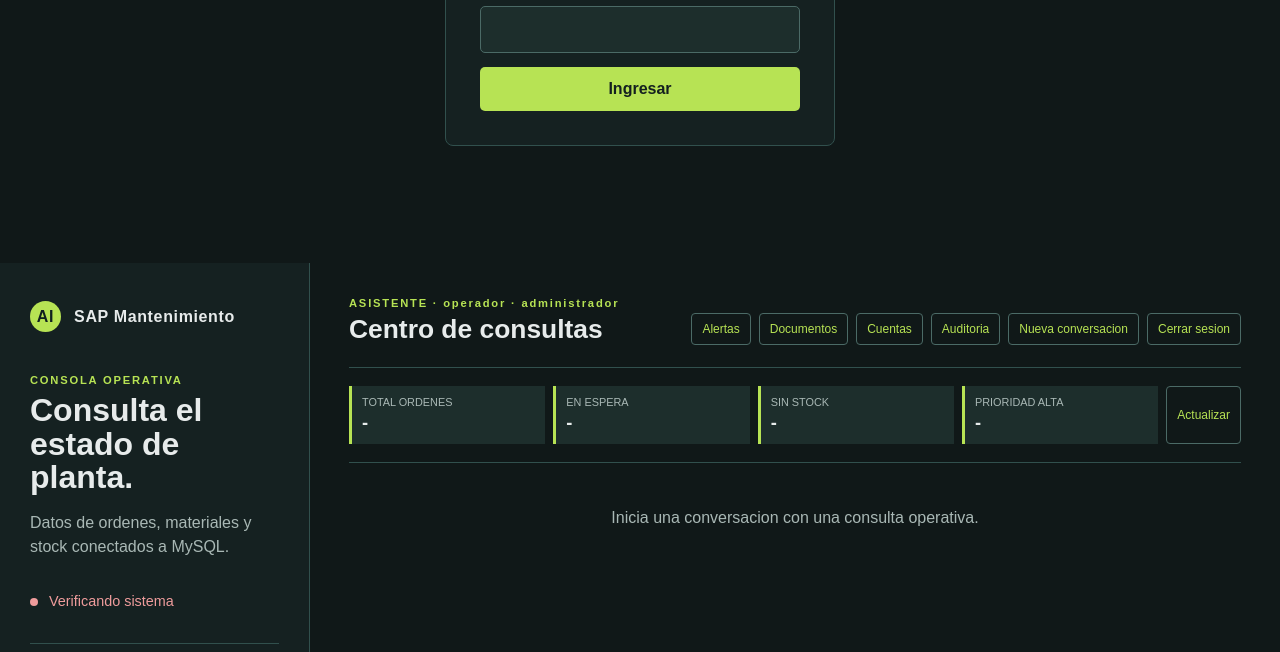
Scenario: App › permite a un administrador incorporar un documento tecnico
(page scrolled)
Click the button "Documentos".
click(804, 329)  # box [759,313,848,345]
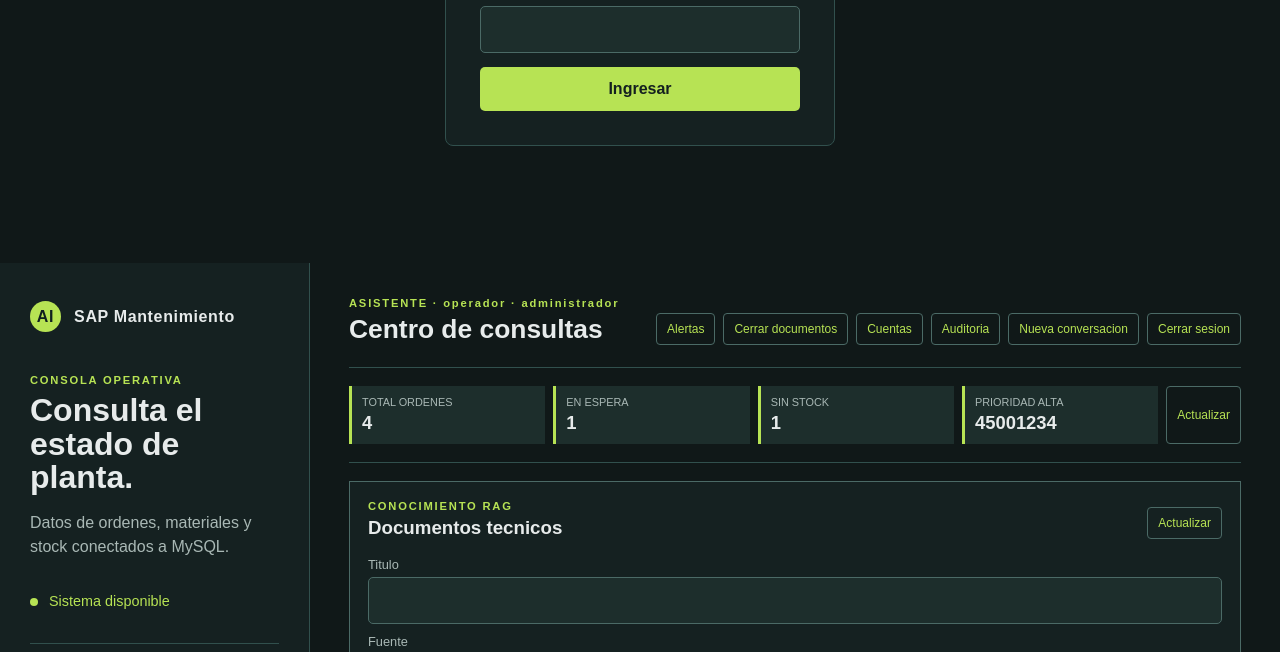
Type "Manual Bomba" into the field labelled "Titulo".
click(795, 600); type("Manual Bomba")  # box [368,577,1222,624]
(page scrolled)
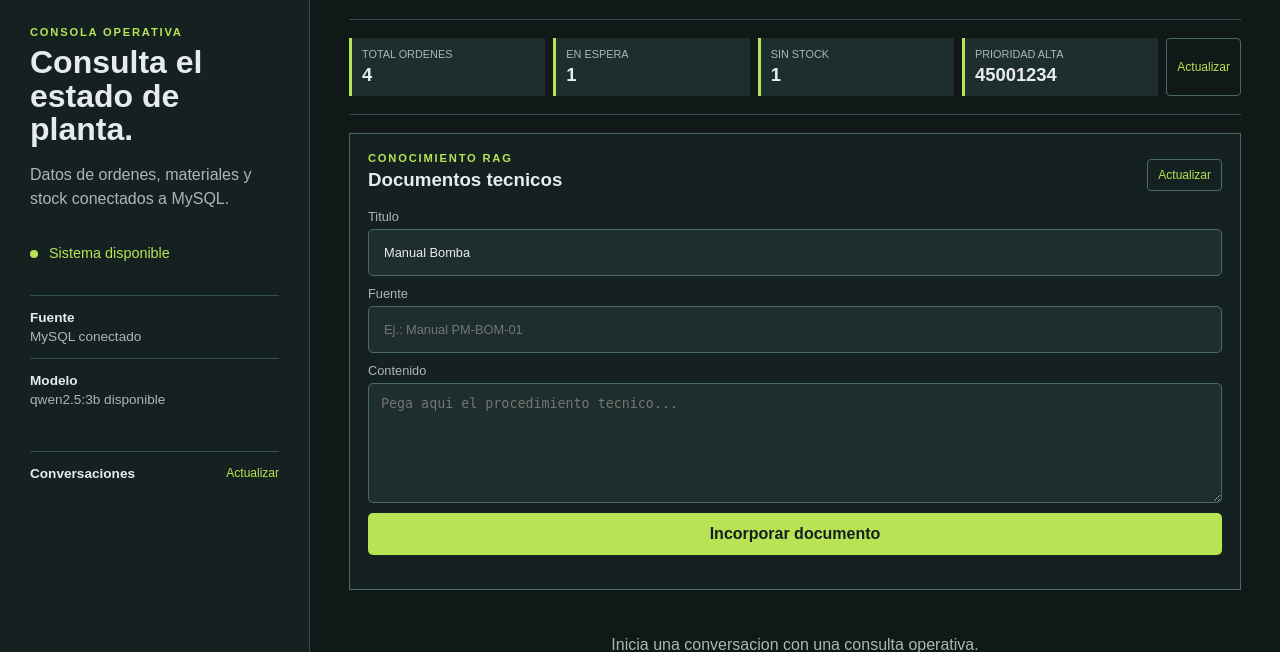
Type "PM-BOM-01" into the field labelled "Fuente".
click(795, 330); type("PM-BOM-01")  # box [368,306,1222,353]
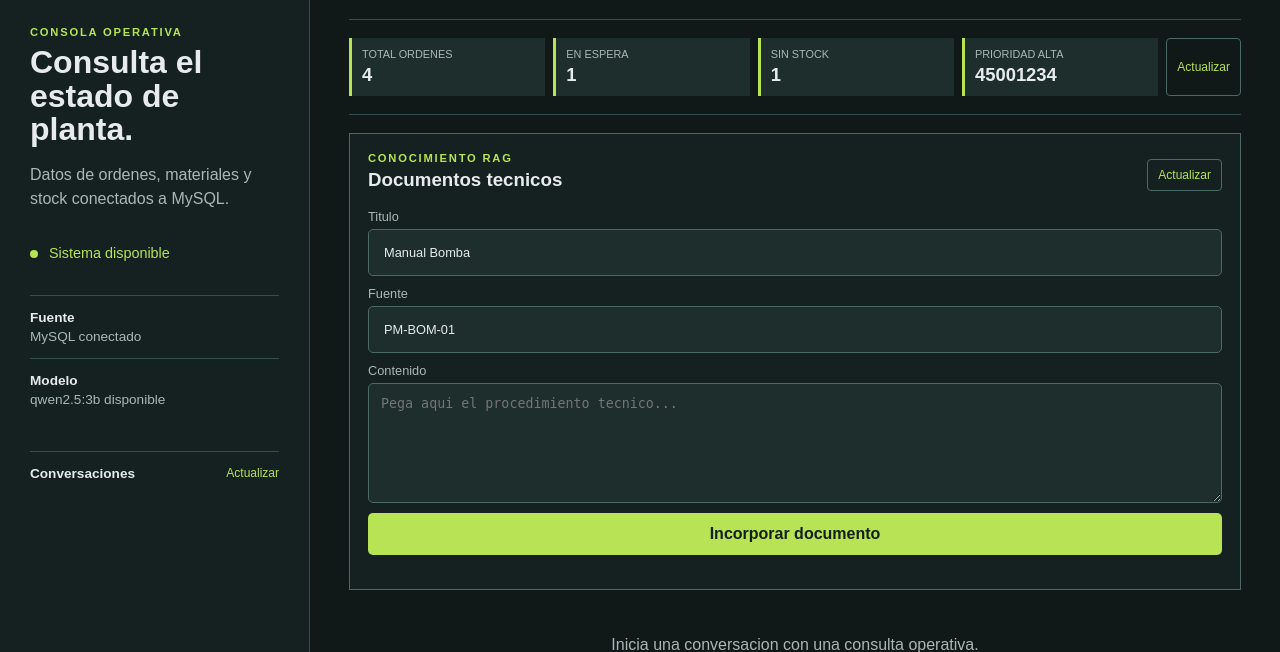
Type "Verificar vibracion y sello mecanico." into the text box labelled "Contenido".
click(795, 443); type("Verificar vibracion y sello mecanico.")  # box [368,383,1222,503]
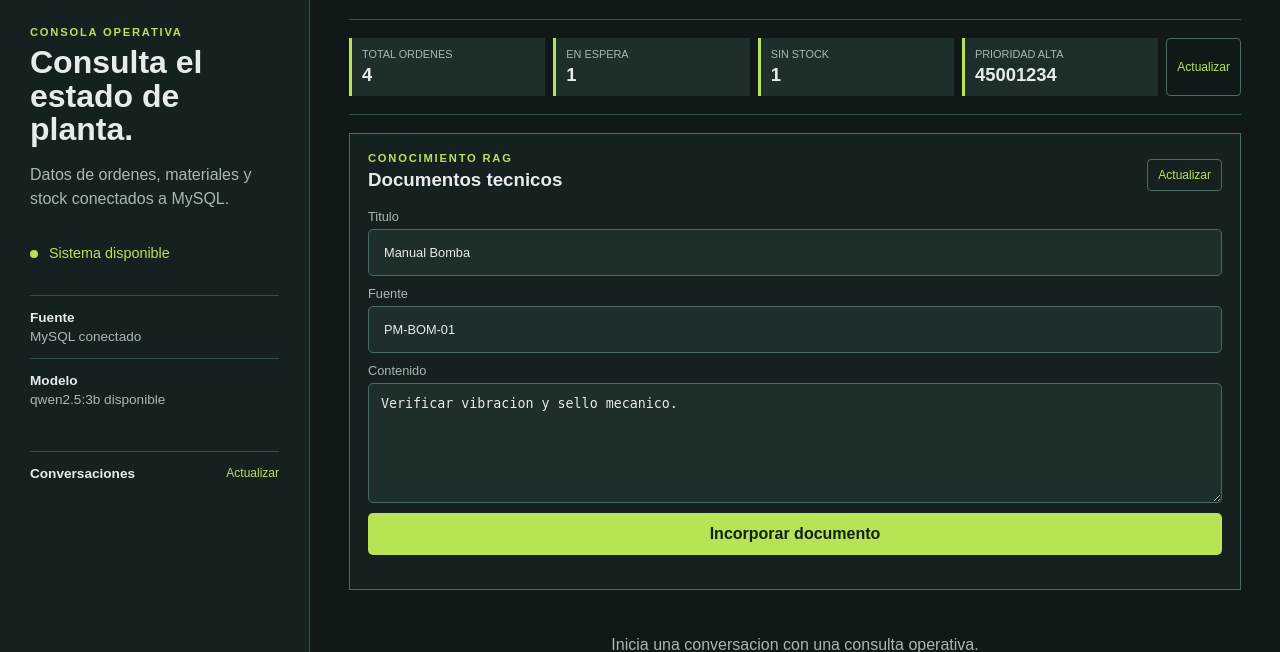
Click the button "Incorporar documento".
click(795, 534)  # box [368,513,1222,555]
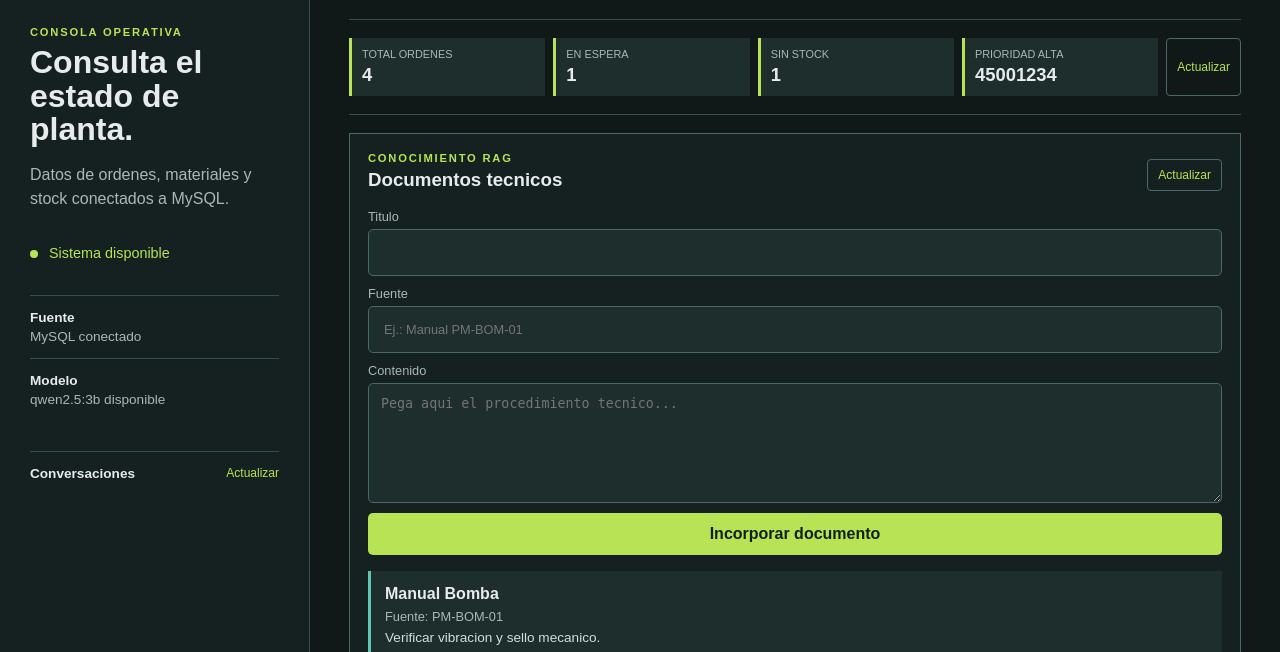
expect the text "Manual Bomba" is shown: met, box [385,585,499,602]
